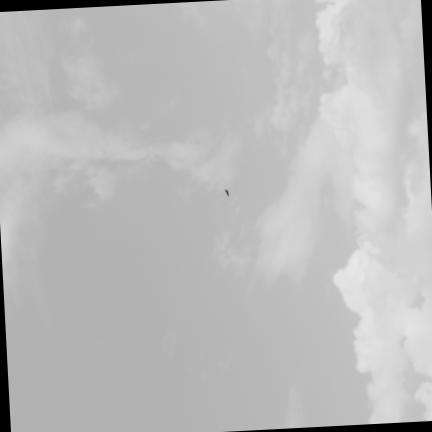Shahed: (225, 188, 228, 195)
